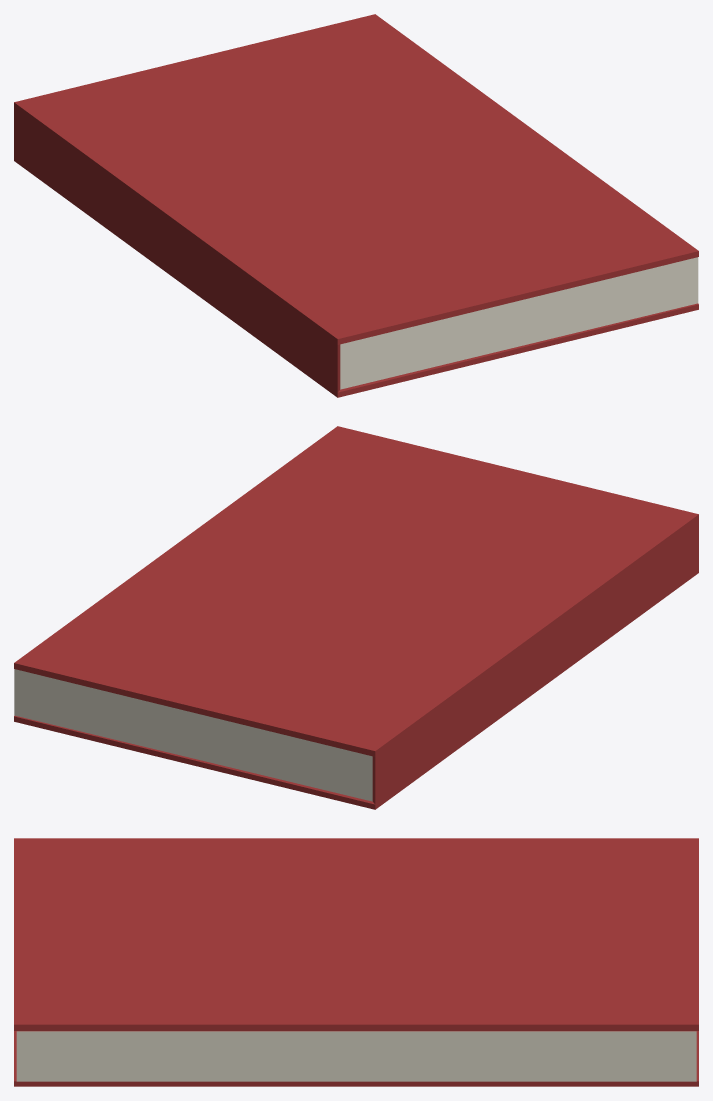
Rendered from Book.fbx.
3 renders of one model, top to bottom at view 1: azimuth 30°, elevation 25°; view 2: azimuth 150°, elevation 25°; view 3: azimuth 270°, elevation 25°, orthographic. The views are drawn at different scales.
Visible parts, largest first — view 1: pCube1; view 2: pCube1; view 3: pCube1.
Part boxes in pixels (box(x1,y1,x2,y2)): pCube1: box(14, 14, 698, 397); pCube1: box(14, 426, 698, 809); pCube1: box(14, 838, 698, 1086).
Size of the model in its own units: 16.14 by 2.5 by 25.
